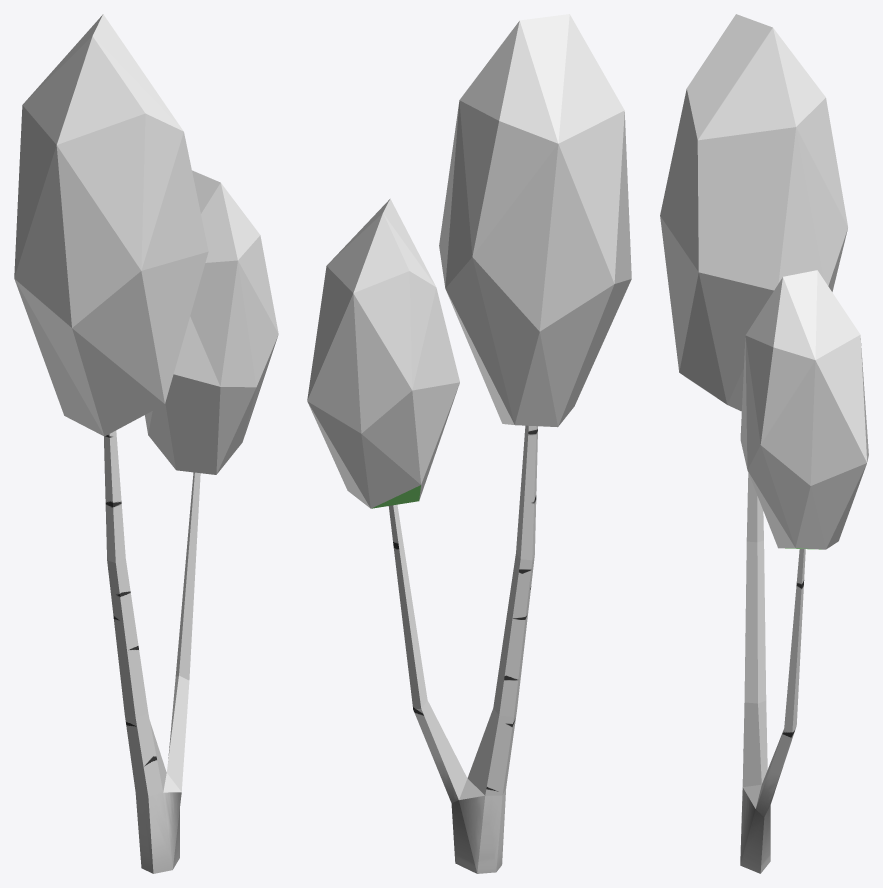
The model's file is Birch_Tree_m_Snow_07_LOD.fbx.
3 renders of one model, left to right at view 1: azimuth 30°, elevation 25°; view 2: azimuth 150°, elevation 25°; view 3: azimuth 270°, elevation 25°, orthographic. The views are drawn at different scales.
Visible parts, largest first — view 1: Birch_Tree_m_Snow_07_LOD0; view 2: Birch_Tree_m_Snow_07_LOD0; view 3: Birch_Tree_m_Snow_07_LOD0.
Boxes of the visible parts, x1=… form: Birch_Tree_m_Snow_07_LOD0: x1=14, y1=14, x2=278, y2=873; Birch_Tree_m_Snow_07_LOD0: x1=307, y1=14, x2=631, y2=873; Birch_Tree_m_Snow_07_LOD0: x1=660, y1=14, x2=868, y2=873.
Size of what is drawn, in the model's own units: 241 by 756 by 176.
